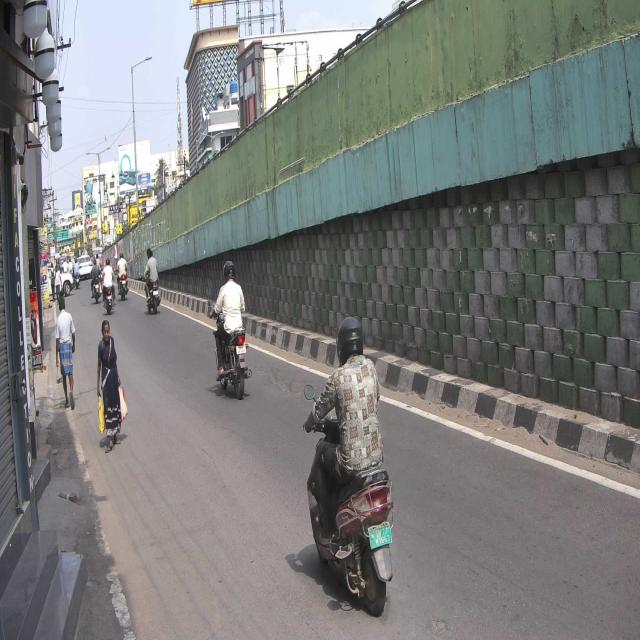single_rider: (303, 314, 393, 618), (207, 257, 253, 402)
